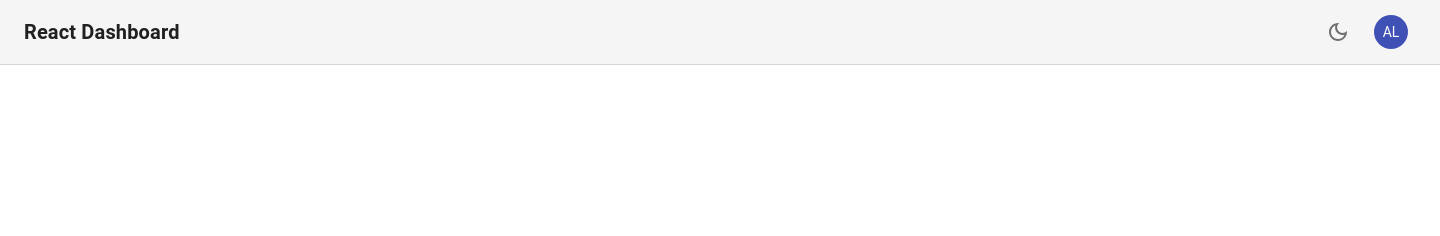
Test case: Navbar › shows the account menu and signs out
Click the button with aria-label "Account menu" at [1391, 32], box [1366,7,1416,57]
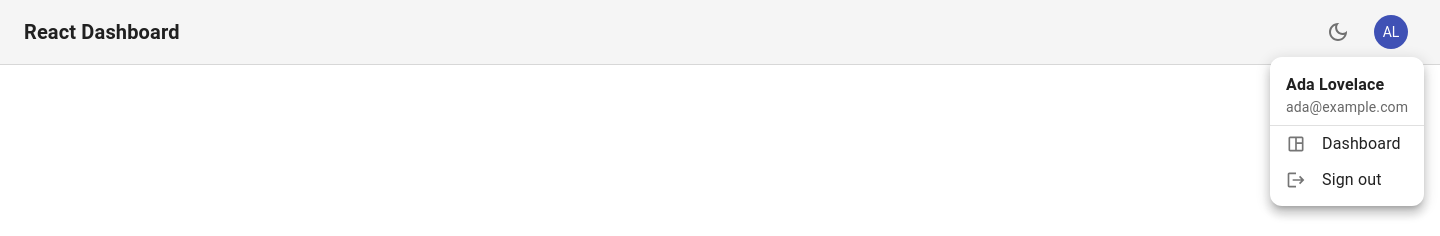
expect the text "AL" is shown: met, box [1374,15,1408,49]
expect the text "ada@example.com" is shown: met, box [1286,97,1408,117]
Click the menu item "Sign out" at [1334, 180], box [1286,170,1382,190]
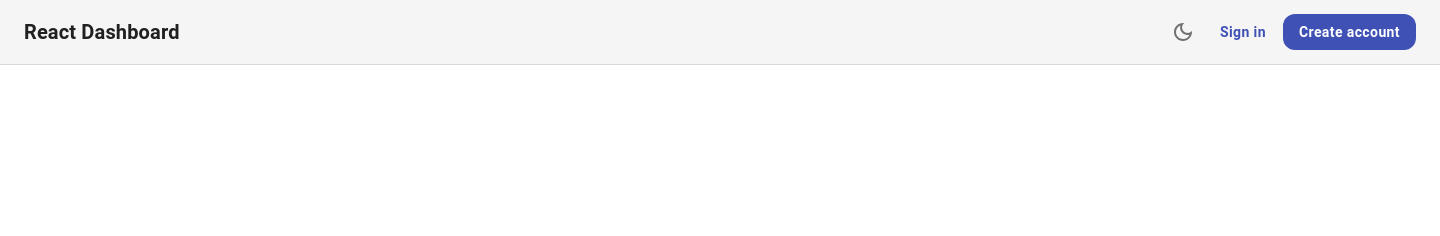
expect the link "Sign in" is shown: met, box [1220,24,1266,40]
